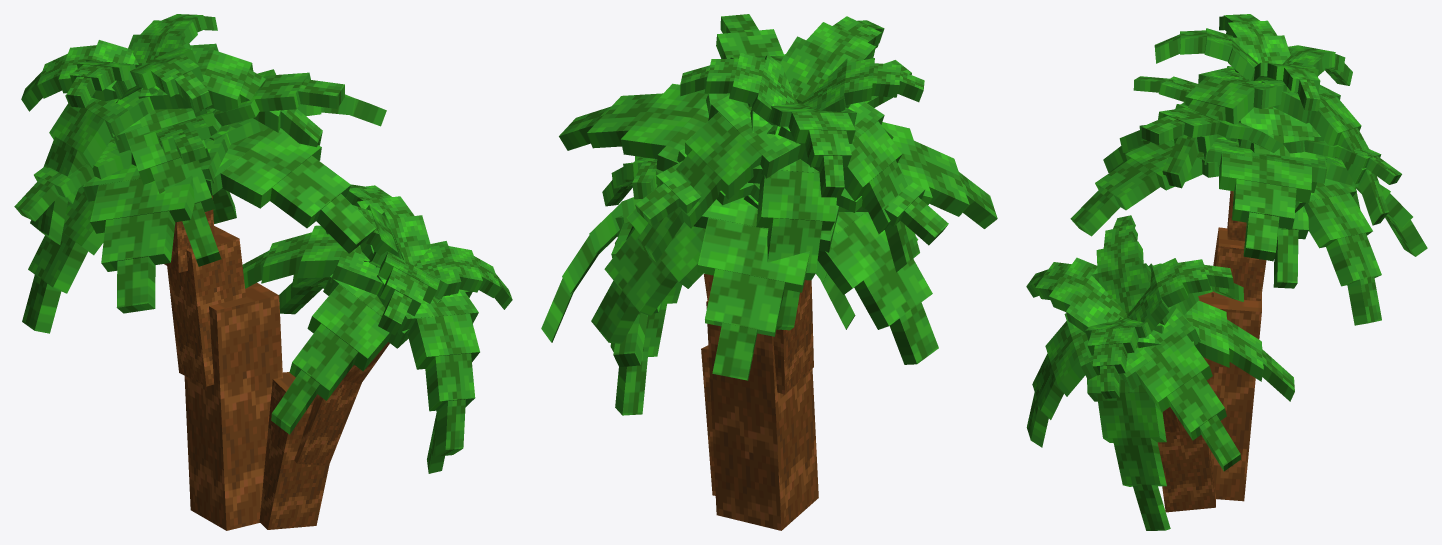
File: Tree3.fbx
3 renders of one model, left to right at view 1: azimuth 30°, elevation 25°; view 2: azimuth 150°, elevation 25°; view 3: azimuth 270°, elevation 25°, orthographic. The views are drawn at different scales.
Visible parts, largest first — view 1: Cube.008, Cube.009, Cube.001, Cube.004, Cube.002, Cube.005, Cube.006, Cube.003; view 2: Cube.008, Cube.001, Cube.004, Cube.009, Cube.002, Cube.005; view 3: Cube.009, Cube.008, Cube.001, Cube.004, Cube.005, Cube.002, Cube.003.
Boxes of the visible parts, bbox=[...] form: Cube.008: bbox=[14, 69, 386, 333]; Cube.009: bbox=[242, 184, 512, 473]; Cube.001: bbox=[21, 14, 322, 266]; Cube.004: bbox=[184, 283, 282, 530]; Cube.002: bbox=[167, 226, 245, 386]; Cube.005: bbox=[259, 372, 329, 529]; Cube.006: bbox=[294, 380, 361, 465]; Cube.003: bbox=[164, 195, 214, 272]; Cube.008: bbox=[559, 14, 997, 380]; Cube.001: bbox=[626, 16, 924, 330]; Cube.004: bbox=[706, 300, 818, 530]; Cube.009: bbox=[541, 156, 855, 415]; Cube.002: bbox=[773, 280, 813, 394]; Cube.005: bbox=[701, 345, 715, 495]; Cube.009: bbox=[1026, 215, 1294, 530]; Cube.008: bbox=[1070, 76, 1427, 325]; Cube.001: bbox=[1150, 14, 1388, 288]; Cube.004: bbox=[1198, 292, 1261, 501]; Cube.005: bbox=[1157, 417, 1215, 512]; Cube.002: bbox=[1211, 227, 1266, 300]; Cube.003: bbox=[1227, 191, 1246, 241].
Bounding box in the file's own units: 548 × 621 × 527.
